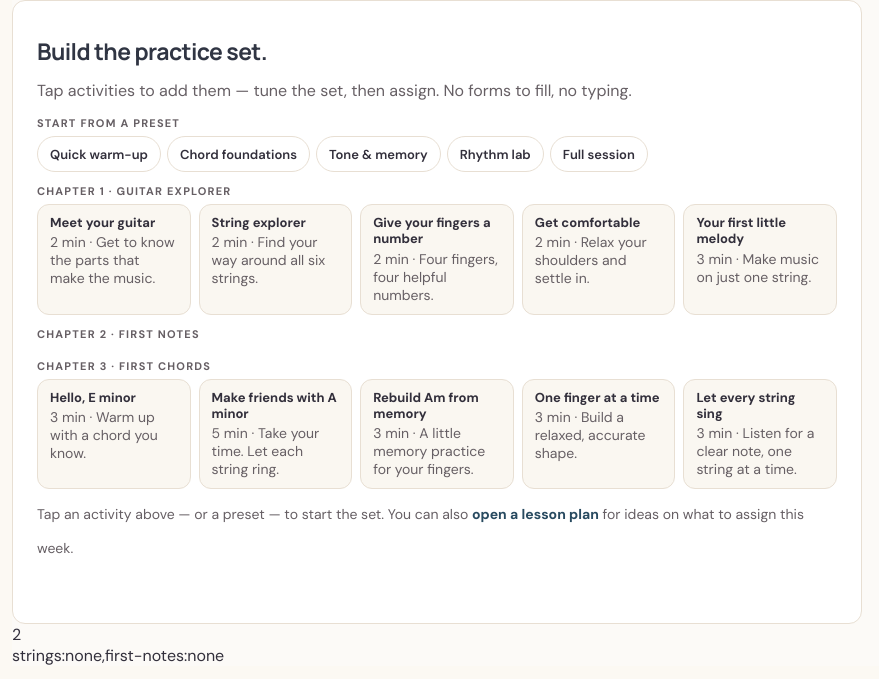
Test: builds a multi-activity set by tapping cards and assigns it
expect the heading "Build the practice set." is shown: met, box [37,35,267,67]
expect the button "Quick warm-up" is shown: met, box [37,136,161,172]
# Tap two activity cards to add them in order.
Click the button with class "activity-pick-card" that starts with "String explorer".
click(275, 259)  # box [199,204,352,315]
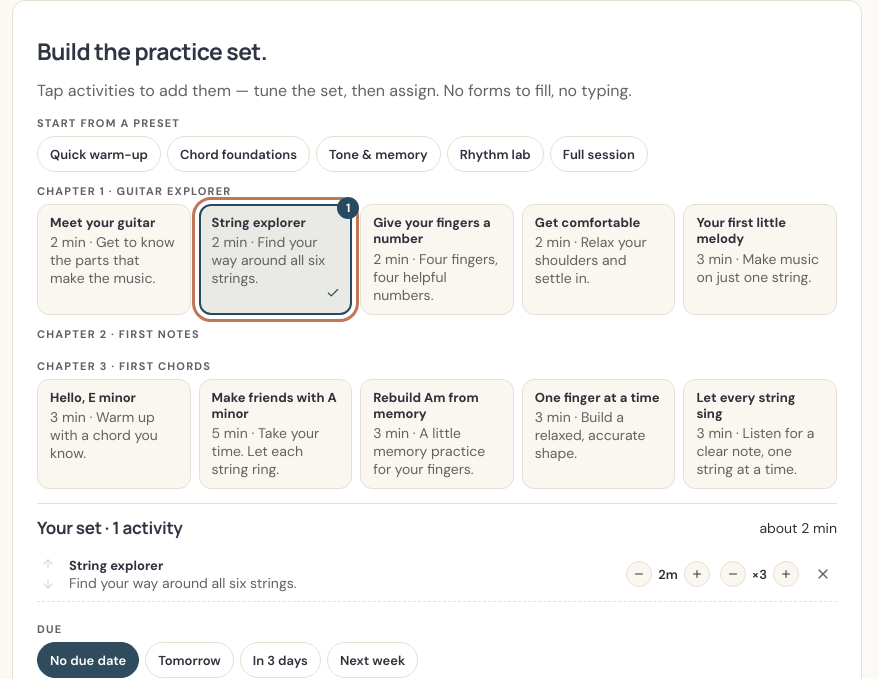
Click the button with class "activity-pick-card" that starts with "Your first little melody".
click(760, 259)  # box [683,204,837,315]
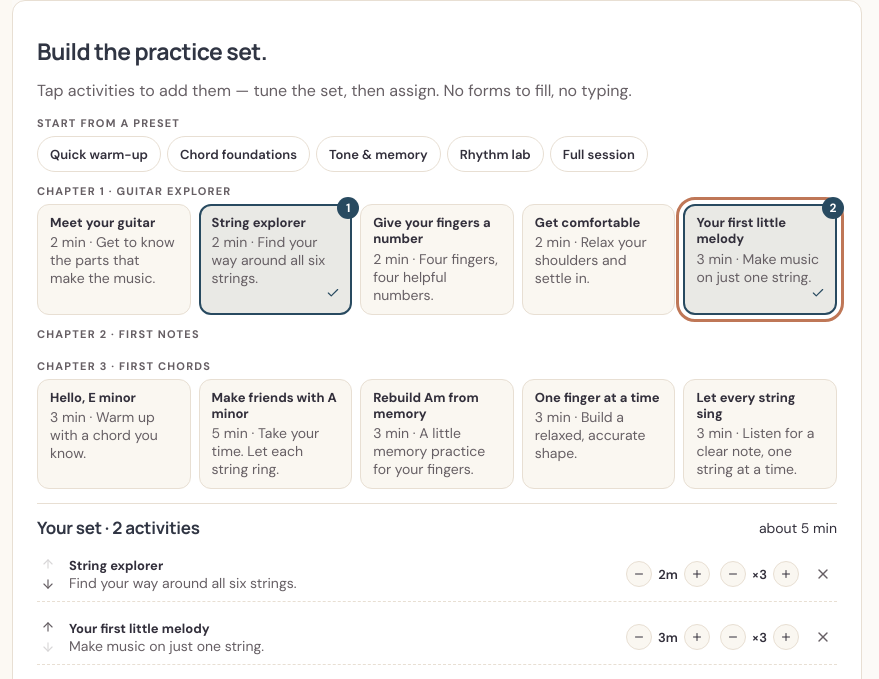
expect the heading "Your set · 2 activities" is shown: met, box [37,516,200,539]
# Tapping a selected card removes it again.
Click the button with class "activity-pick-card" that starts with "String explorer".
click(275, 259)  # box [199,204,352,315]
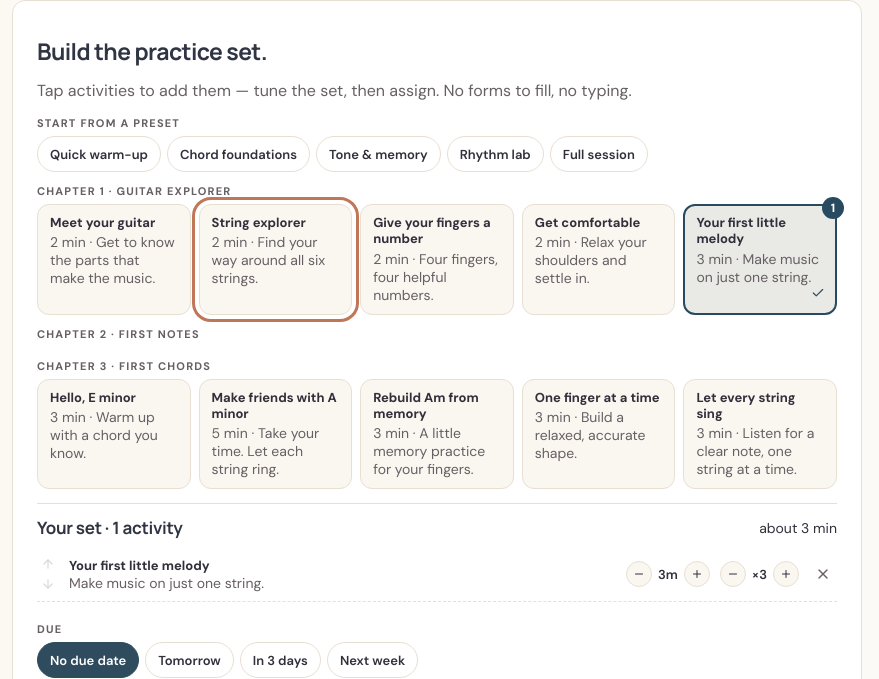
expect the heading "Your set · 1 activity" is shown: met, box [37,516,183,539]
Click the button with class "activity-pick-card" that starts with "String explorer".
click(275, 259)  # box [199,204,352,315]
(page scrolled)
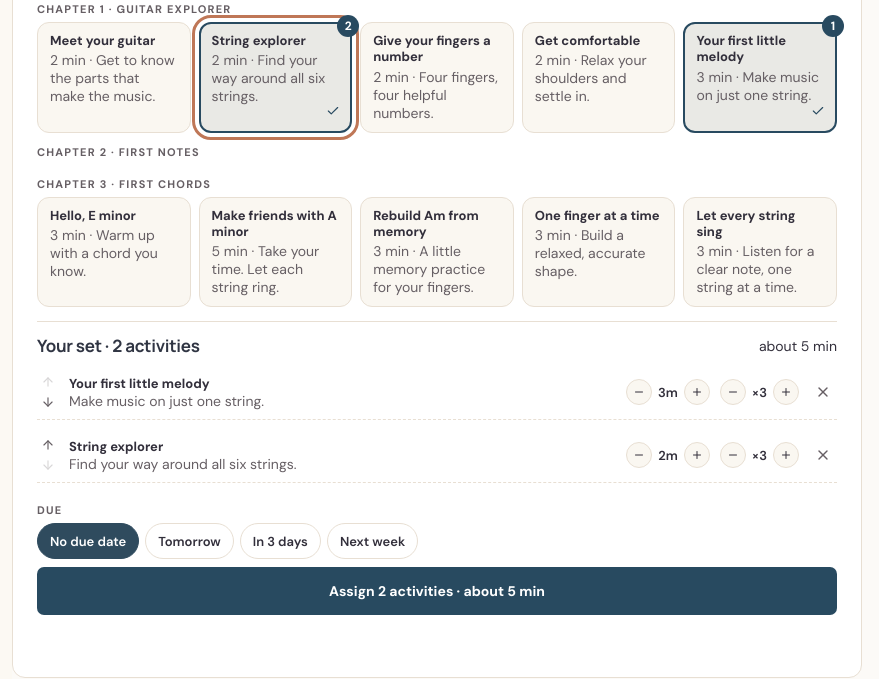
Click the button "Assign 2 activities · about 5 min".
click(437, 591)  # box [37,567,837,615]
(page scrolled)
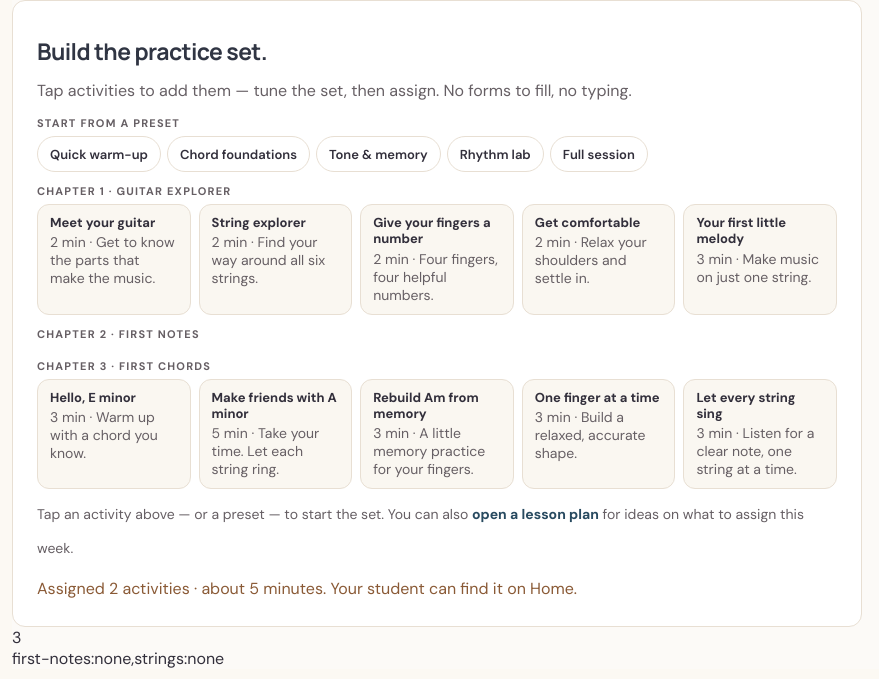
expect the text "Assigned 2 activities · about 5 minutes. Your student can find it on Home." is shown: met, box [37,578,577,599]
expect the heading "Your set" is gone: met
